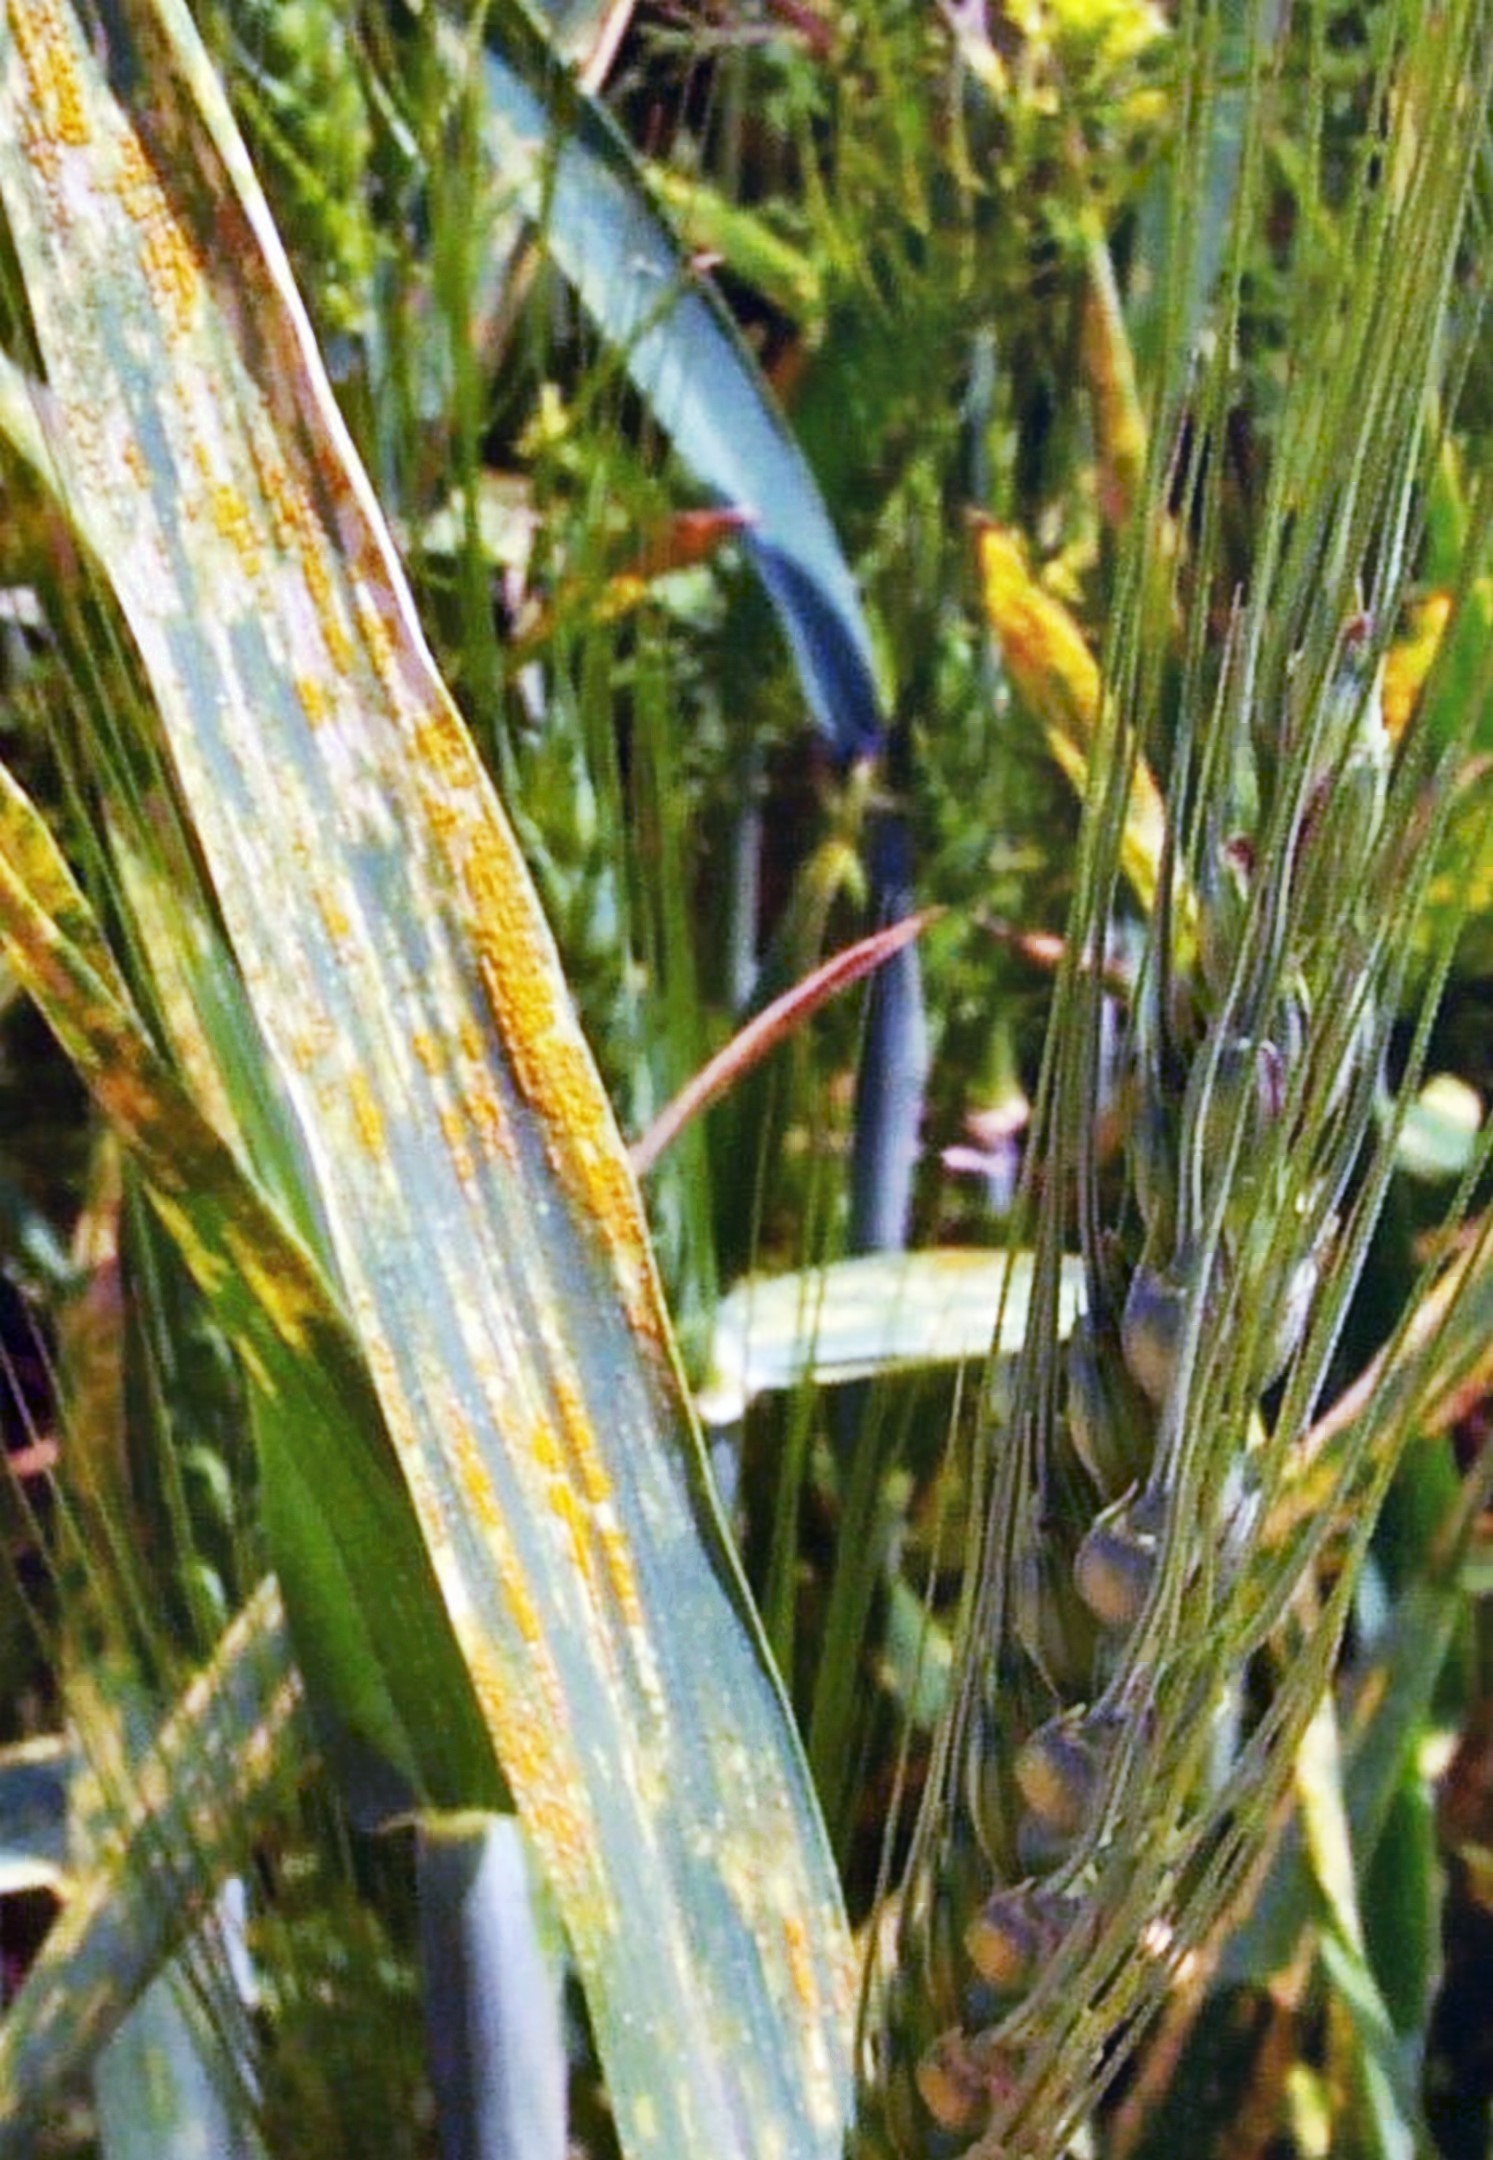Leaf Rust: (54, 102, 683, 1416)
